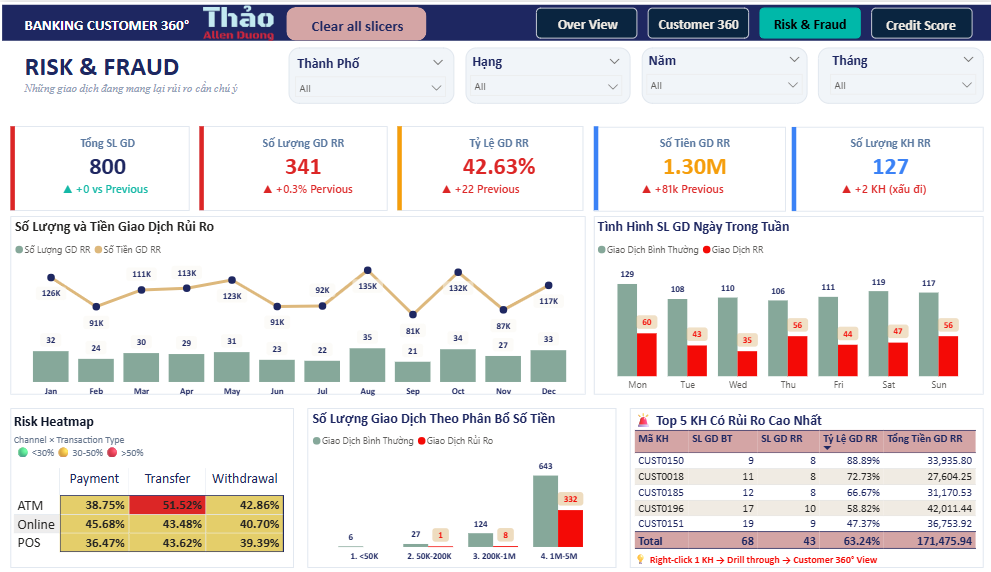

The dashboard page shown, as its layout file describes it:
{"tool":"powerbi","page":{"name":"Risk & Fraud ","canvas":[1331,775],"ordinal":2},"visuals":[{"type":"group","id":"g1","title":"Clear all Slicer","box":[377.1,7.1,200,47.1],"z":0},{"type":"shape","box":[382.8,7.1,187.1,45],"z":0,"group":"g1"},{"type":"cardVisual","fields":{"Data":["_measure.SL_GD","_measure.SL_GD_RUI_RO","_measure.%_GD_rui_ro","_measure.TT_GD_rui_ro","_measure.SL_KH_co_GD_rui_ro"]},"box":[0,157.5,1331.2,98.6],"z":0,"group":"g3"},{"type":"pivotTable","fields":{"Rows":["fact_transactions.channel"],"Columns":["fact_transactions.txn_type"],"Values":["_measure.%_GD_rui_ro"]},"box":[14.7,615.6,379.2,140.1],"z":0,"group":"g2"},{"type":"cardVisual","fields":{"Data":["_measure.TT_delta_%_rui_ro_MoM"]},"box":[321.2,217,197.6,60],"z":1000,"group":"g3"},{"type":"group","id":"g2","title":"Group 1","box":[14,542.7,380,212.7],"z":1000},{"type":"textbox","box":[14,542.7,156.6,32.6],"z":1000,"group":"g2"},{"type":"actionButton","box":[1160,10,135.9,41.2],"z":2000},{"type":"cardVisual","fields":{"Data":["_measure.TT_delta_SL_GD_RUI_RO"]},"box":[560,220.1,225.6,53.8],"z":2000,"group":"g3"},{"type":"textbox","box":[14,567.4,264.1,48.4],"z":2000,"group":"g2"},{"type":"actionButton","box":[862.9,8.8,136.5,41.2],"z":3000},{"type":"cardVisual","fields":{"Data":["_measure.TT_delta_TT_GD_rui_ro"]},"box":[826.8,218.9,225.6,56.2],"z":3000,"group":"g3"},{"type":"actionButton","box":[1011.8,8.8,137.1,41.8],"z":4000},{"type":"cardVisual","fields":{"Data":["_measure.SL_KH_rui_ro_MoM_format"]},"box":[1093.6,218.9,225.6,56.2],"z":4000,"group":"g3"},{"type":"actionButton","box":[717.1,8.8,134.1,41.2],"z":5000},{"type":"cardVisual","fields":{"Data":["_measure.TT_delta_SL_GD"]},"box":[54.4,218.9,225.6,56.2],"z":5000,"group":"g3"},{"type":"lineClusteredColumnComboChart","title":"Số Lượng và Tiền Giao Dịch Rủi Ro","fields":{"Category":["dim_date.TenThang"],"Y":["_measure.SL_GD_RUI_RO"],"Y2":["_measure.TT_GD_rui_ro"]},"box":[14.2,287.5,770,247.5],"z":6000},{"type":"actionButton","box":[377.1,15.9,200,27.4],"z":7000,"group":"g1"},{"type":"clusteredColumnChart","title":"Tình Hình SL GD Ngày Trong Tuần","fields":{"Category":["dim_date.NgayTrongTuan"],"Y":["_measure.SL_GD","_measure.SL_GD_RUI_RO"]},"box":[791.7,287.5,519.2,240.8],"z":7000},{"type":"slicer","fields":{"Values":["dim_date.Nam"]},"box":[852,61,228,72],"z":8000,"group":"g4"},{"type":"group","id":"g3","title":"Group 2","box":[0,157.5,1331.2,120],"z":8000},{"type":"slicer","fields":{"Values":["dim_date.TenThang"]},"box":[1096,61,215,67],"z":9000,"group":"g4"},{"type":"clusteredColumnChart","title":"Số Lượng Giao Dịch Theo Phân Bổ Số Tiền","fields":{"Category":["fact_transactions.amount_bin"],"Y":["_measure.SL_GD","_measure.SL_GD_RUI_RO"]},"box":[411.7,542.5,408.3,212.5],"z":9000},{"type":"slicer","fields":{"Values":["dim_customers.city"]},"box":[383,64,221,67],"z":10000,"group":"g4"},{"type":"tableEx","title":"🚨 Top 5 KH Có Rủi Ro Cao Nhất","fields":{"Values":["dim_customers.customer_id","_measure.SL_GD","_measure.SL_GD_RUI_RO","_measure.%_GD_rui_ro","_measure.TT_GD_rui_ro"]},"box":[840,542.7,470.9,191.8],"z":10000},{"type":"group","id":"g4","title":"Group 3","box":[383,61,928,72],"z":11000},{"type":"slicer","fields":{"Values":["dim_customers.segment"]},"box":[617,62,223,71],"z":11000,"group":"g4"},{"type":"textbox","box":[840,728,336.7,27.3],"z":12000}]}

Visuals, with their boxes in screenshot pixels (x1, y1, x2, y2), scaled from the page's 1331x775 canvas onto the 991x572 screenshot:
"Clear all Slicer" group: 281:5:430:40
shape: 285:5:424:38
cardVisual - _measure.SL_GD x _measure.SL_GD_RUI_RO: 0:116:990:189
pivotTable - fact_transactions.channel x fact_transactions.txn_type: 11:454:293:558
cardVisual - _measure.TT_delta_%_rui_ro_MoM: 239:160:386:204
"Group 1" group: 10:401:293:558
textbox: 10:401:127:425
actionButton: 864:7:965:38
cardVisual - _measure.TT_delta_SL_GD_RUI_RO: 417:162:585:202
textbox: 10:419:207:455
actionButton: 642:6:744:37
cardVisual - _measure.TT_delta_TT_GD_rui_ro: 616:162:784:203
actionButton: 753:6:855:37
cardVisual - _measure.SL_KH_rui_ro_MoM_format: 814:162:982:203
actionButton: 534:6:634:37
cardVisual - _measure.TT_delta_SL_GD: 41:162:208:203
"Số Lượng và Tiền Giao Dịch Rủi Ro" lineClusteredColumnComboChart: 11:212:584:395
actionButton: 281:12:430:32
"Tình Hình SL GD Ngày Trong Tuần" clusteredColumnChart: 589:212:976:390
slicer - dim_date.Nam: 634:45:804:98
"Group 2" group: 0:116:990:205
slicer - dim_date.TenThang: 816:45:976:94
"Số Lượng Giao Dịch Theo Phân Bổ Số Tiền" clusteredColumnChart: 307:400:611:557
slicer - dim_customers.city: 285:47:450:97
"🚨 Top 5 KH Có Rủi Ro Cao Nhất" tableEx: 625:401:976:542
"Group 3" group: 285:45:976:98
slicer - dim_customers.segment: 459:46:625:98
textbox: 625:537:876:557
